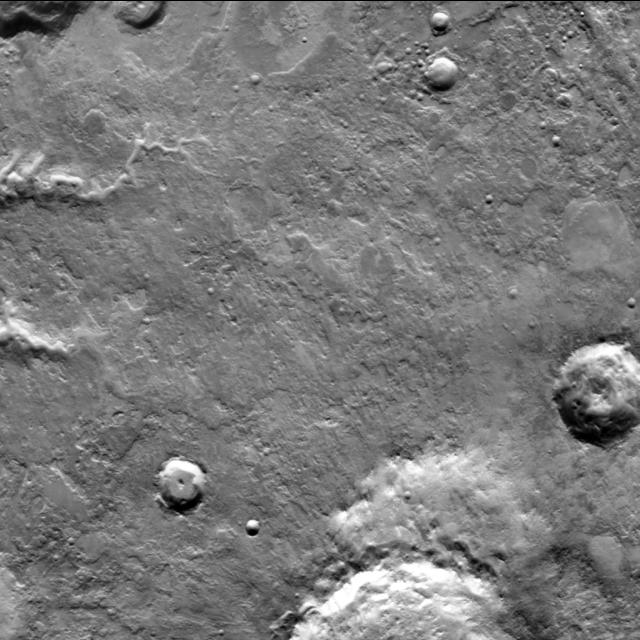crater: (329, 447, 556, 640), (222, 0, 369, 100), (554, 335, 640, 441), (554, 190, 628, 274), (154, 454, 203, 509), (424, 50, 461, 90), (80, 105, 104, 131), (429, 4, 449, 27), (243, 514, 258, 530), (249, 68, 259, 80), (624, 292, 634, 302), (506, 282, 516, 292), (550, 130, 559, 140), (483, 190, 492, 200), (414, 88, 422, 96), (395, 494, 401, 502), (396, 49, 402, 57), (531, 124, 537, 132)
